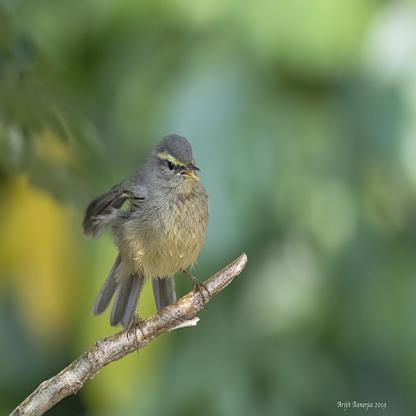Burung: (81, 128, 210, 354)
